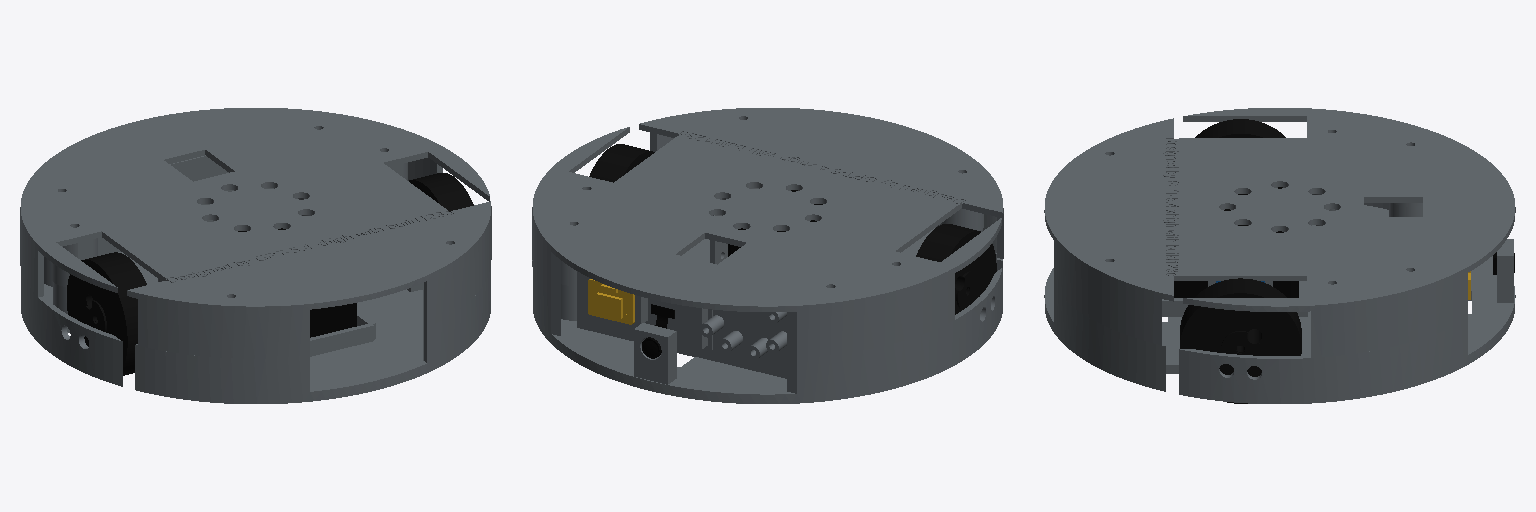
URDF robot description (flat_disk_robot):
<?xml version='1.0' encoding='utf-8'?>
<robot name="flat_disk_robot">
  <link name="base_footprint" />
  <link name="base_link">
    <inertial>
      <origin xyz="0 0 0.021825" rpy="0 0 0" />
      <mass value="0.23" />
      <inertia ixx="0.000930759" ixy="0" ixz="0" iyy="0.000930759" iyz="0" izz="0.00178848" />
    </inertial>
    <visual>
      <origin xyz="0 0 0" rpy="0 0 0" />
      <geometry>
        <mesh filename="meshes/flat_disk_robot_base_link.stl" scale="0.001 0.001 0.001" />
      </geometry>
      <material name="base_link_material">
        <color rgba="0.42745098 0.450980392 0.470588235 1" />
      </material>
    </visual>
    <collision>
      <origin xyz="0 0 0" rpy="0 0 0" />
      <geometry>
        <mesh filename="meshes/flat_disk_robot_base_link.stl" scale="0.001 0.001 0.001" />
      </geometry>
    </collision>
  </link>
  <link name="lid_link">
    <inertial>
      <origin xyz="0 0 0.03625" rpy="0 0 0" />
      <mass value="0.075" />
      <inertia ixx="0.000295989" ixy="0" ixz="0" iyy="0.000295989" iyz="0" izz="0.0005832" />
    </inertial>
    <visual>
      <origin xyz="0 0 0" rpy="0 0 0" />
      <geometry>
        <mesh filename="meshes/flat_disk_robot_lid_link.stl" scale="0.001 0.001 0.001" />
      </geometry>
      <material name="lid_link_material">
        <color rgba="0.42745098 0.450980392 0.470588235 1" />
      </material>
    </visual>
    <collision>
      <origin xyz="0 0 0" rpy="0 0 0" />
      <geometry>
        <mesh filename="meshes/flat_disk_robot_lid_link.stl" scale="0.001 0.001 0.001" />
      </geometry>
    </collision>
  </link>
  <link name="battery_link">
    <inertial>
      <origin xyz="0 0 0.019" rpy="0 0 0" />
      <mass value="0.18" />
      <inertia ixx="0.0000411" ixy="0" ixz="0" iyy="0.000101595" iyz="0" izz="0.000099375" />
    </inertial>
    <visual>
      <origin xyz="0 0 0" rpy="0 0 0" />
      <geometry>
        <mesh filename="meshes/flat_disk_robot_battery.stl" scale="0.001 0.001 0.001" />
      </geometry>
      <material name="battery_link_material">
        <color rgba="0.066666667 0.066666667 0.066666667 1" />
      </material>
    </visual>
    <collision>
      <origin xyz="0 0 0" rpy="0 0 0" />
      <geometry>
        <mesh filename="meshes/flat_disk_robot_battery.stl" scale="0.001 0.001 0.001" />
      </geometry>
    </collision>
  </link>
  <link name="esp32_link">
    <inertial>
      <origin xyz="0.003208329 0.00673 -0.0061114" rpy="0 0 0" />
      <mass value="0.008" />
      <inertia ixx="0.000000341" ixy="0" ixz="0" iyy="0.000000606" iyz="0" izz="0.000000526" />
    </inertial>
    <visual>
      <origin xyz="0 0 0" rpy="0 0 0" />
      <geometry>
        <mesh filename="meshes/seeed_xiao_esp32s3_sense.stl" scale="0.001 0.001 0.001" />
      </geometry>
      <material name="esp32_link_material">
        <color rgba="0.066666667 0.066666667 0.066666667 1" />
      </material>
    </visual>
    <collision>
      <origin xyz="0 0 0" rpy="0 0 0" />
      <geometry>
        <mesh filename="meshes/seeed_xiao_esp32s3_sense.stl" scale="0.001 0.001 0.001" />
      </geometry>
    </collision>
  </link>
  <link name="ov2640_camera_link">
    <inertial>
      <origin xyz="0 0.00435 0.005875" rpy="0 0 0" />
      <mass value="0.004" />
      <inertia ixx="0.0000002" ixy="0" ixz="0" iyy="0.00000021" iyz="0" izz="0.000000095" />
    </inertial>
    <visual>
      <origin xyz="0 0 0" rpy="0 0 0" />
      <geometry>
        <mesh filename="meshes/ov2640_21mm_160_camera.stl" scale="0.001 0.001 0.001" />
      </geometry>
      <material name="ov2640_camera_link_material">
        <color rgba="0.066666667 0.066666667 0.066666667 1" />
      </material>
    </visual>
    <collision>
      <origin xyz="0 0 0" rpy="0 0 0" />
      <geometry>
        <mesh filename="meshes/ov2640_21mm_160_camera.stl" scale="0.001 0.001 0.001" />
      </geometry>
    </collision>
  </link>
  <link name="tof_link">
    <inertial>
      <origin xyz="0 0 0.00325" rpy="0 0 0" />
      <mass value="0.006" />
      <inertia ixx="0.000000399" ixy="0" ixz="0" iyy="0.000000903" iyz="0" izz="0.00000126" />
    </inertial>
    <visual>
      <origin xyz="0 0 0" rpy="0 0 0" />
      <geometry>
        <mesh filename="meshes/tof_sensor_board.stl" scale="0.001 0.001 0.001" />
      </geometry>
      <material name="tof_link_material">
        <color rgba="0.784313725 0.623529412 0.176470588 1" />
      </material>
    </visual>
    <collision>
      <origin xyz="0 0 0" rpy="0 0 0" />
      <geometry>
        <mesh filename="meshes/tof_sensor_board.stl" scale="0.001 0.001 0.001" />
      </geometry>
    </collision>
  </link>
  <link name="radar_link">
    <inertial>
      <origin xyz="0 0 0.0018" rpy="0 0 0" />
      <mass value="0.004" />
      <inertia ixx="0.000000112" ixy="0" ixz="0" iyy="0.000000196" iyz="0" izz="0.0000003" />
    </inertial>
    <visual>
      <origin xyz="0 0 0" rpy="0 0 0" />
      <geometry>
        <mesh filename="meshes/forward_radar_module.stl" scale="0.001 0.001 0.001" />
      </geometry>
      <material name="radar_link_material">
        <color rgba="0.784313725 0.623529412 0.176470588 1" />
      </material>
    </visual>
    <collision>
      <origin xyz="0 0 0" rpy="0 0 0" />
      <geometry>
        <mesh filename="meshes/forward_radar_module.stl" scale="0.001 0.001 0.001" />
      </geometry>
    </collision>
  </link>
  <link name="left_motor_link">
    <inertial>
      <origin xyz="0.002169596 -0.002169596 0.00235" rpy="0 0 0" />
      <mass value="0.09" />
      <inertia ixx="0.000031979" ixy="0" ixz="0" iyy="0.000031979" iyz="0" izz="0.000011211" />
    </inertial>
    <visual>
      <origin xyz="0 0 0" rpy="0 0 0" />
      <geometry>
        <mesh filename="meshes/repeat_compact_1806_motor.stl" scale="0.001 0.001 0.001" />
      </geometry>
      <material name="left_motor_link_material">
        <color rgba="0.725490196 0.725490196 0.725490196 1" />
      </material>
    </visual>
    <collision>
      <origin xyz="0 0 0" rpy="0 0 0" />
      <geometry>
        <mesh filename="meshes/repeat_compact_1806_motor.stl" scale="0.001 0.001 0.001" />
      </geometry>
    </collision>
  </link>
  <link name="left_wheel_link">
    <inertial>
      <origin xyz="0 0 0" rpy="0 0 0" />
      <mass value="0.032" />
      <inertia ixx="0.000012544" ixy="0" ixz="0" iyy="0.000007136" iyz="0" izz="0.000007136" />
    </inertial>
    <visual>
      <origin xyz="0 0 0" rpy="0 0 0" />
      <geometry>
        <mesh filename="meshes/repeat_drive_wheel_x_axis.stl" scale="0.001 0.001 0.001" />
      </geometry>
      <material name="left_wheel_link_material">
        <color rgba="0.094117647 0.094117647 0.094117647 1" />
      </material>
    </visual>
    <collision>
      <origin xyz="0 0 0" rpy="0 0 0" />
      <geometry>
        <mesh filename="meshes/repeat_drive_wheel_x_axis.stl" scale="0.001 0.001 0.001" />
      </geometry>
    </collision>
  </link>
  <link name="left_encoder_link">
    <inertial>
      <origin xyz="0 0 0.00015" rpy="0 0 0" />
      <mass value="0.006" />
      <inertia ixx="0.000000263" ixy="0" ixz="0" iyy="0.000000275" iyz="0" izz="0.000000526" />
    </inertial>
    <visual>
      <origin xyz="0 0 0" rpy="0 0 0" />
      <geometry>
        <mesh filename="meshes/as5600_encoder_module.stl" scale="0.001 0.001 0.001" />
      </geometry>
      <material name="left_encoder_link_material">
        <color rgba="0.11372549 0.37254902 0.6 1" />
      </material>
    </visual>
    <collision>
      <origin xyz="0 0 0" rpy="0 0 0" />
      <geometry>
        <mesh filename="meshes/as5600_encoder_module.stl" scale="0.001 0.001 0.001" />
      </geometry>
    </collision>
  </link>
  <link name="left_encoder_magnet_link">
    <inertial>
      <origin xyz="0 0 0" rpy="0 0 0" />
      <mass value="0.001" />
      <inertia ixx="0.000000005" ixy="0" ixz="0" iyy="0.000000003" iyz="0" izz="0.000000003" />
    </inertial>
    <visual>
      <origin xyz="0 0 0" rpy="0 0 0" />
      <geometry>
        <mesh filename="meshes/encoder_magnet.stl" scale="0.001 0.001 0.001" />
      </geometry>
      <material name="left_encoder_magnet_link_material">
        <color rgba="0.066666667 0.066666667 0.066666667 1" />
      </material>
    </visual>
    <collision>
      <origin xyz="0 0 0" rpy="0 0 0" />
      <geometry>
        <mesh filename="meshes/encoder_magnet.stl" scale="0.001 0.001 0.001" />
      </geometry>
    </collision>
  </link>
  <link name="right_motor_link">
    <inertial>
      <origin xyz="0.002169596 -0.002169596 0.00235" rpy="0 0 0" />
      <mass value="0.09" />
      <inertia ixx="0.000031979" ixy="0" ixz="0" iyy="0.000031979" iyz="0" izz="0.000011211" />
    </inertial>
    <visual>
      <origin xyz="0 0 0" rpy="0 0 0" />
      <geometry>
        <mesh filename="meshes/repeat_compact_1806_motor.stl" scale="0.001 0.001 0.001" />
      </geometry>
      <material name="right_motor_link_material">
        <color rgba="0.725490196 0.725490196 0.725490196 1" />
      </material>
    </visual>
    <collision>
      <origin xyz="0 0 0" rpy="0 0 0" />
      <geometry>
        <mesh filename="meshes/repeat_compact_1806_motor.stl" scale="0.001 0.001 0.001" />
      </geometry>
    </collision>
  </link>
  <link name="right_wheel_link">
    <inertial>
      <origin xyz="0 0 0" rpy="0 0 0" />
      <mass value="0.032" />
      <inertia ixx="0.000012544" ixy="0" ixz="0" iyy="0.000007136" iyz="0" izz="0.000007136" />
    </inertial>
    <visual>
      <origin xyz="0 0 0" rpy="0 0 0" />
      <geometry>
        <mesh filename="meshes/repeat_drive_wheel_x_axis.stl" scale="0.001 0.001 0.001" />
      </geometry>
      <material name="right_wheel_link_material">
        <color rgba="0.094117647 0.094117647 0.094117647 1" />
      </material>
    </visual>
    <collision>
      <origin xyz="0 0 0" rpy="0 0 0" />
      <geometry>
        <mesh filename="meshes/repeat_drive_wheel_x_axis.stl" scale="0.001 0.001 0.001" />
      </geometry>
    </collision>
  </link>
  <link name="right_encoder_link">
    <inertial>
      <origin xyz="0 0 0.00015" rpy="0 0 0" />
      <mass value="0.006" />
      <inertia ixx="0.000000263" ixy="0" ixz="0" iyy="0.000000275" iyz="0" izz="0.000000526" />
    </inertial>
    <visual>
      <origin xyz="0 0 0" rpy="0 0 0" />
      <geometry>
        <mesh filename="meshes/as5600_encoder_module.stl" scale="0.001 0.001 0.001" />
      </geometry>
      <material name="right_encoder_link_material">
        <color rgba="0.11372549 0.37254902 0.6 1" />
      </material>
    </visual>
    <collision>
      <origin xyz="0 0 0" rpy="0 0 0" />
      <geometry>
        <mesh filename="meshes/as5600_encoder_module.stl" scale="0.001 0.001 0.001" />
      </geometry>
    </collision>
  </link>
  <link name="right_encoder_magnet_link">
    <inertial>
      <origin xyz="0 0 0" rpy="0 0 0" />
      <mass value="0.001" />
      <inertia ixx="0.000000005" ixy="0" ixz="0" iyy="0.000000003" iyz="0" izz="0.000000003" />
    </inertial>
    <visual>
      <origin xyz="0 0 0" rpy="0 0 0" />
      <geometry>
        <mesh filename="meshes/encoder_magnet.stl" scale="0.001 0.001 0.001" />
      </geometry>
      <material name="right_encoder_magnet_link_material">
        <color rgba="0.066666667 0.066666667 0.066666667 1" />
      </material>
    </visual>
    <collision>
      <origin xyz="0 0 0" rpy="0 0 0" />
      <geometry>
        <mesh filename="meshes/encoder_magnet.stl" scale="0.001 0.001 0.001" />
      </geometry>
    </collision>
  </link>
  <joint name="base_footprint_to_base_link" type="fixed">
    <origin xyz="0 0 0.006" rpy="0 0 0" />
    <parent link="base_footprint" />
    <child link="base_link" />
  </joint>
  <joint name="base_link_to_lid" type="fixed">
    <origin xyz="0 0 0" rpy="0 0 0" />
    <parent link="base_link" />
    <child link="lid_link" />
  </joint>
  <joint name="base_link_to_battery" type="fixed">
    <origin xyz="0 -0.028 0.005" rpy="0 0 1.570796327" />
    <parent link="base_link" />
    <child link="battery_link" />
  </joint>
  <joint name="base_link_to_esp32" type="fixed">
    <origin xyz="0.008 0.082 0.03" rpy="0 1.570796327 0" />
    <parent link="base_link" />
    <child link="esp32_link" />
  </joint>
  <joint name="base_link_to_ov2640_camera" type="fixed">
    <origin xyz="0 0.097874347 0.02125" rpy="0 0 0" />
    <parent link="base_link" />
    <child link="ov2640_camera_link" />
  </joint>
  <joint name="base_link_to_tof" type="fixed">
    <origin xyz="-0.034 0.086 0.03" rpy="-1.570796327 0 3.141592654" />
    <parent link="base_link" />
    <child link="tof_link" />
  </joint>
  <joint name="base_link_to_radar" type="fixed">
    <origin xyz="0.034 0.084 0.028" rpy="-1.570796327 0 0" />
    <parent link="base_link" />
    <child link="radar_link" />
  </joint>
  <joint name="base_link_to_left_motor" type="fixed">
    <origin xyz="-0.0658 -0.018 0.022" rpy="0 -1.570796327 0" />
    <parent link="base_link" />
    <child link="left_motor_link" />
  </joint>
  <joint name="left_wheel_joint" type="continuous">
    <origin xyz="-0.0865 -0.018 0.022" rpy="0 0 0" />
    <parent link="base_link" />
    <child link="left_wheel_link" />
    <axis xyz="-1 0 0" />
    <limit effort="1.5" velocity="40" />
    <dynamics damping="0.05" friction="0.02" />
  </joint>
  <joint name="base_link_to_left_encoder" type="fixed">
    <origin xyz="-0.0341 -0.018 0.022" rpy="0 -1.570796327 0" />
    <parent link="base_link" />
    <child link="left_encoder_link" />
  </joint>
  <joint name="base_link_to_left_encoder_magnet" type="fixed">
    <origin xyz="-0.0375 -0.018 0.022" rpy="0 0 0" />
    <parent link="base_link" />
    <child link="left_encoder_magnet_link" />
  </joint>
  <joint name="base_link_to_right_motor" type="fixed">
    <origin xyz="0.0658 -0.018 0.022" rpy="0 1.570796327 0" />
    <parent link="base_link" />
    <child link="right_motor_link" />
  </joint>
  <joint name="right_wheel_joint" type="continuous">
    <origin xyz="0.0865 -0.018 0.022" rpy="0 0 0" />
    <parent link="base_link" />
    <child link="right_wheel_link" />
    <axis xyz="-1 0 0" />
    <limit effort="1.5" velocity="40" />
    <dynamics damping="0.05" friction="0.02" />
  </joint>
  <joint name="base_link_to_right_encoder" type="fixed">
    <origin xyz="0.0341 -0.018 0.022" rpy="0 1.570796327 0" />
    <parent link="base_link" />
    <child link="right_encoder_link" />
  </joint>
  <joint name="base_link_to_right_encoder_magnet" type="fixed">
    <origin xyz="0.0375 -0.018 0.022" rpy="0 0 0" />
    <parent link="base_link" />
    <child link="right_encoder_magnet_link" />
  </joint>
</robot>

--- What the picture shows (computed from the rendered views, not written in the file) ---
3 views of the same robot in one strip: view 1: azimuth 30°, elevation 25°; view 2: azimuth 150°, elevation 25°; view 3: azimuth 270°, elevation 25° (orthographic).
Model flat_disk_robot with 16 links and 15 joints (2 continuous, 13 fixed), rooted at base_footprint, posed every joint at zero.
Visible links, largest first — view 1: lid_link, base_link, left_wheel_link, right_wheel_link, battery_link; view 2: lid_link, base_link, left_wheel_link, radar_link, right_wheel_link, ov2640_camera_link; view 3: lid_link, base_link, right_wheel_link, left_wheel_link, battery_link.
Link boxes in pixels (bbox=[...]): lid_link: bbox=[20, 108, 491, 358]; base_link: bbox=[20, 155, 490, 403]; left_wheel_link: bbox=[67, 252, 146, 375]; right_wheel_link: bbox=[409, 173, 473, 211]; battery_link: bbox=[238, 228, 356, 337]; lid_link: bbox=[532, 108, 1003, 357]; base_link: bbox=[532, 188, 1002, 403]; left_wheel_link: bbox=[916, 224, 996, 314]; radar_link: bbox=[588, 279, 634, 324]; right_wheel_link: bbox=[589, 144, 654, 182]; ov2640_camera_link: bbox=[642, 304, 674, 358]; lid_link: bbox=[1044, 108, 1515, 357]; base_link: bbox=[1044, 187, 1515, 403]; right_wheel_link: bbox=[1180, 278, 1301, 403]; left_wheel_link: bbox=[1195, 119, 1285, 194]; battery_link: bbox=[1174, 209, 1298, 297].
Bounding box of the posed robot: 0.216 × 0.216 × 0.056 m (x, y, z).
Meshes: 11 distinct files referenced, 11 mesh visuals loaded (8 binary STL); not drawn: 4 (reference not matched to a file when rendering).
